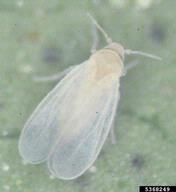whitefly: (17, 19, 161, 182)
